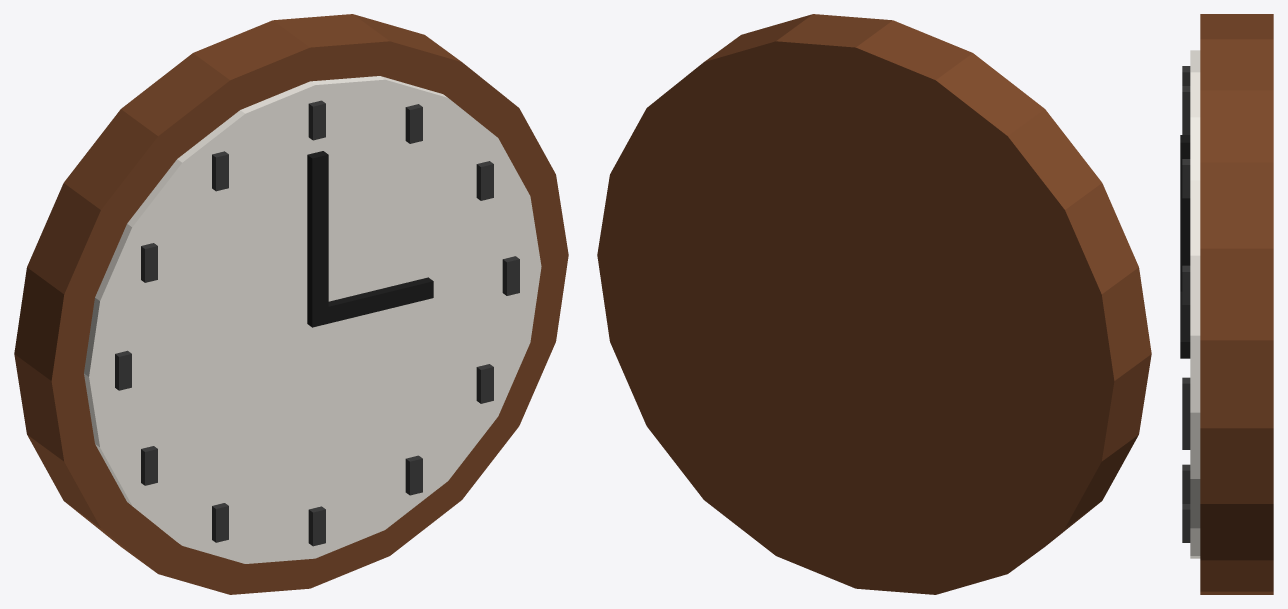
Rendered from wall_clock.glb.
The picture shows the model from 3 angles, left to right: view 1: azimuth 30°, elevation 25°; view 2: azimuth 150°, elevation 25°; view 3: azimuth 270°, elevation 25°; orthographic projection. The views are drawn at different scales.
Parts seen in each view (by area): view 1: wall_clock; view 2: wall_clock; view 3: wall_clock.
Boxes of the visible parts, left/top/right/bottom form: wall_clock: left=14, top=14, right=568, bottom=594; wall_clock: left=597, top=14, right=1151, bottom=594; wall_clock: left=1180, top=14, right=1273, bottom=594.
Bounding box in the file's own units: 0.32 × 0.32 × 0.051.
